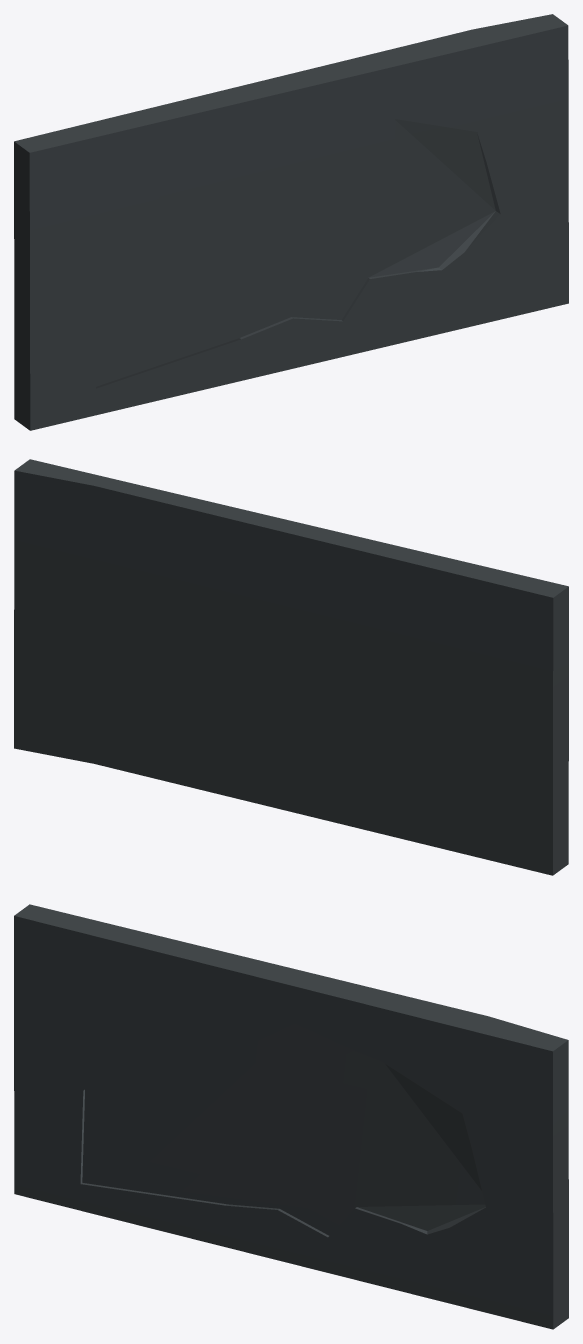
File: Wall_04.FBX
3 renders of one model, top to bottom at view 1: azimuth 30°, elevation 25°; view 2: azimuth 150°, elevation 25°; view 3: azimuth 330°, elevation 25°, orthographic.
Parts seen in each view (by area): view 1: Wall_04; view 2: Wall_04; view 3: Wall_04.
Part boxes in pixels (x1=…): Wall_04: x1=14, y1=14, x2=568, y2=430; Wall_04: x1=14, y1=459, x2=568, y2=875; Wall_04: x1=14, y1=904, x2=568, y2=1329.
Size of the model in its own units: 20 by 10 by 1.06.
